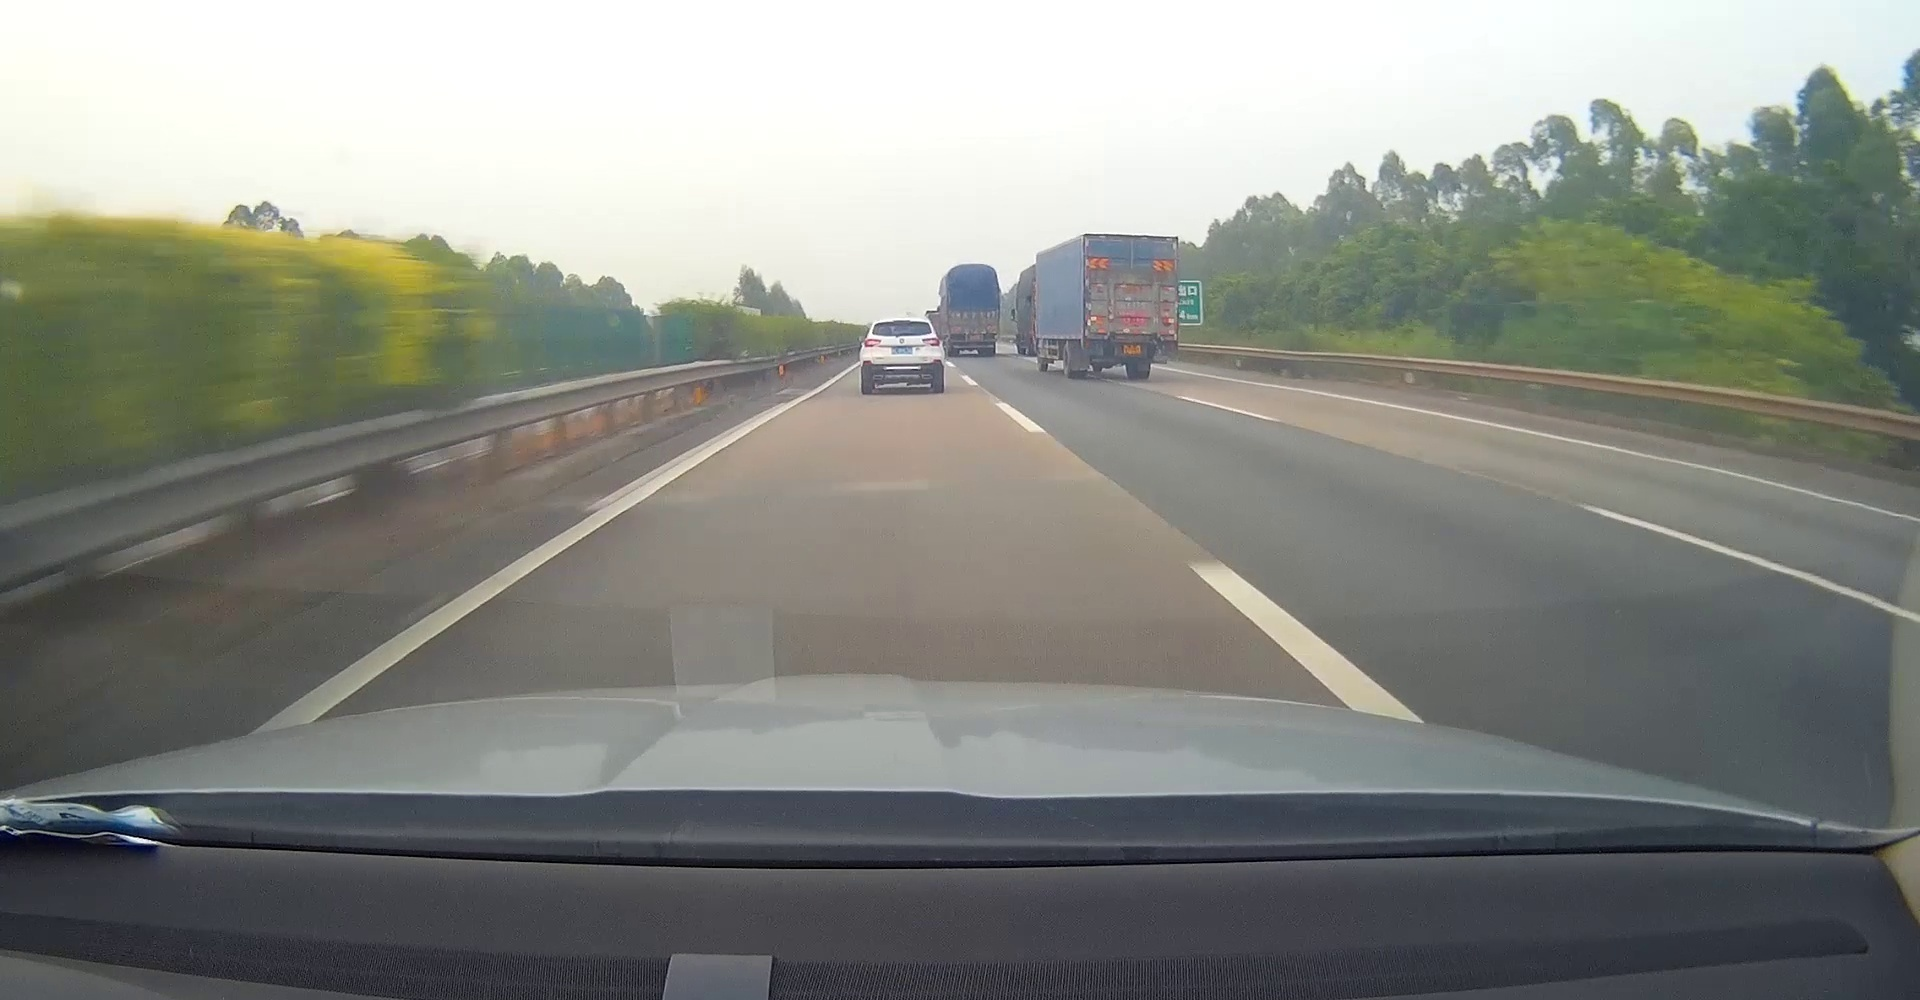L_light: (862, 338, 881, 346), (1083, 341, 1103, 349)
R_light: (922, 338, 941, 346), (1161, 341, 1177, 350)
T_light: (1126, 236, 1144, 242), (894, 320, 909, 324)
day-no: (1082, 234, 1178, 381), (860, 317, 943, 393)
